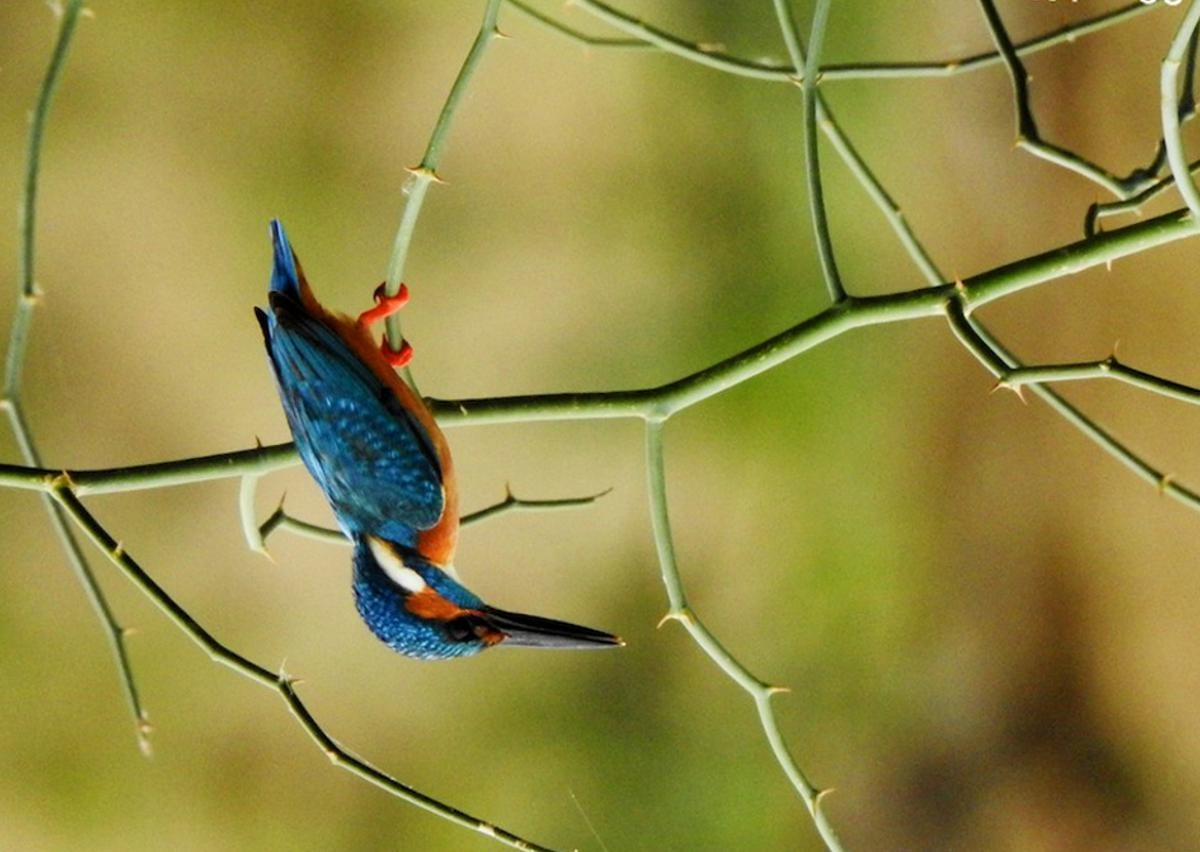kingfisher: (226, 236, 635, 680)
